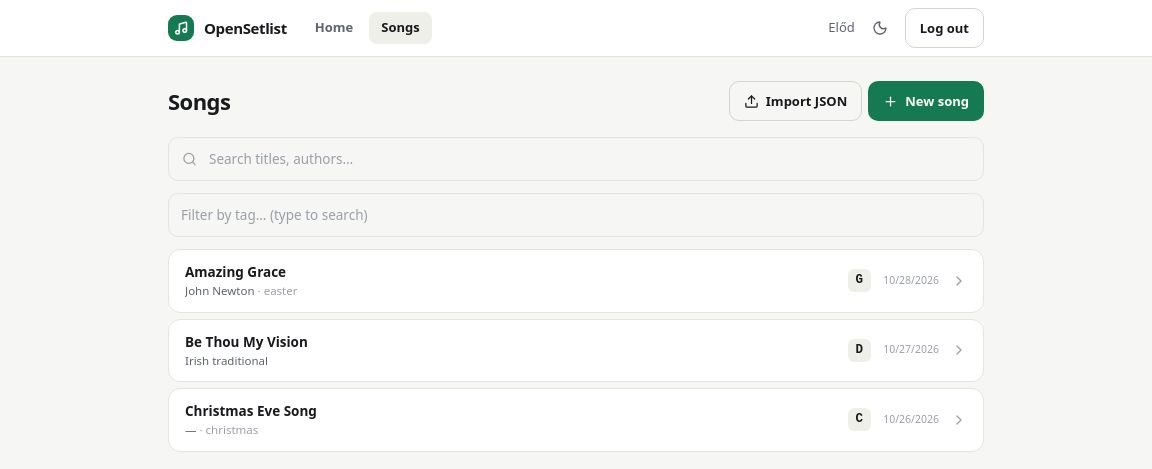
SongsPage › filters by a tag picked through the search-as-you-type picker
Expected: the text "Amazing Grace" is shown, top-left (185, 263), bottom-right (286, 281)
In the field labelled "Filter by tag": point(576, 215) top-left (168, 193), bottom-right (984, 237), type "eas"
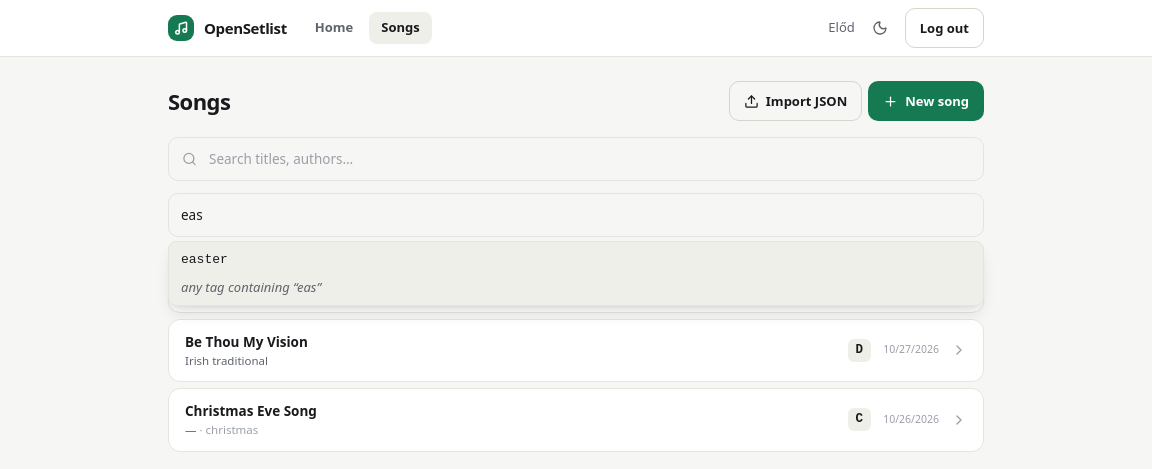
Press the mouse on the button "easter": point(204, 260) top-left (173, 246), bottom-right (979, 274)
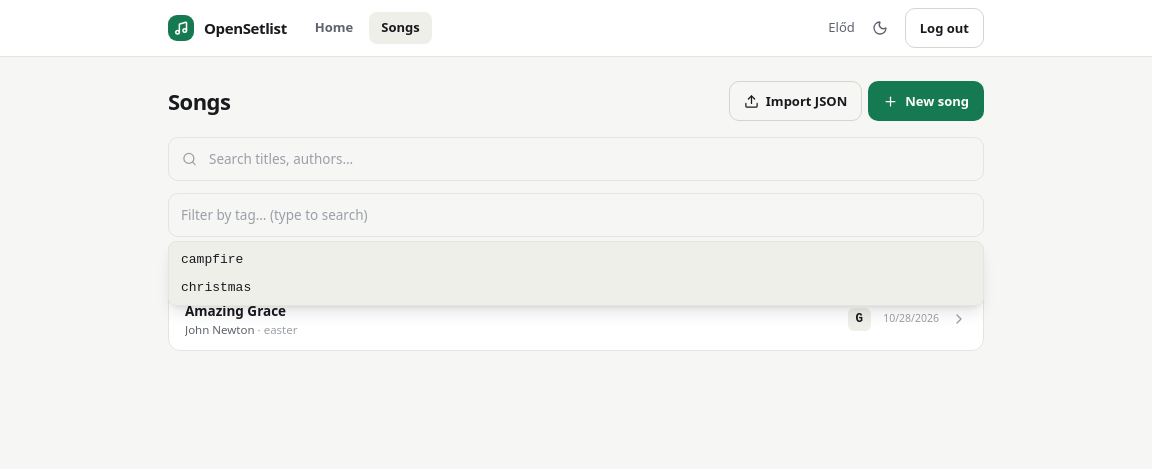
Expected: the text "Amazing Grace" is shown, top-left (185, 302), bottom-right (286, 320)
Result: the button "Be Thou My Vision" is gone
